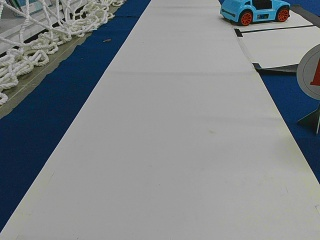car: (221, 1, 290, 24)
